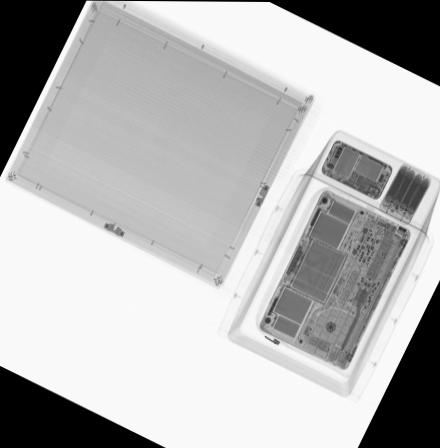Powerbank: (375, 159, 432, 225)
